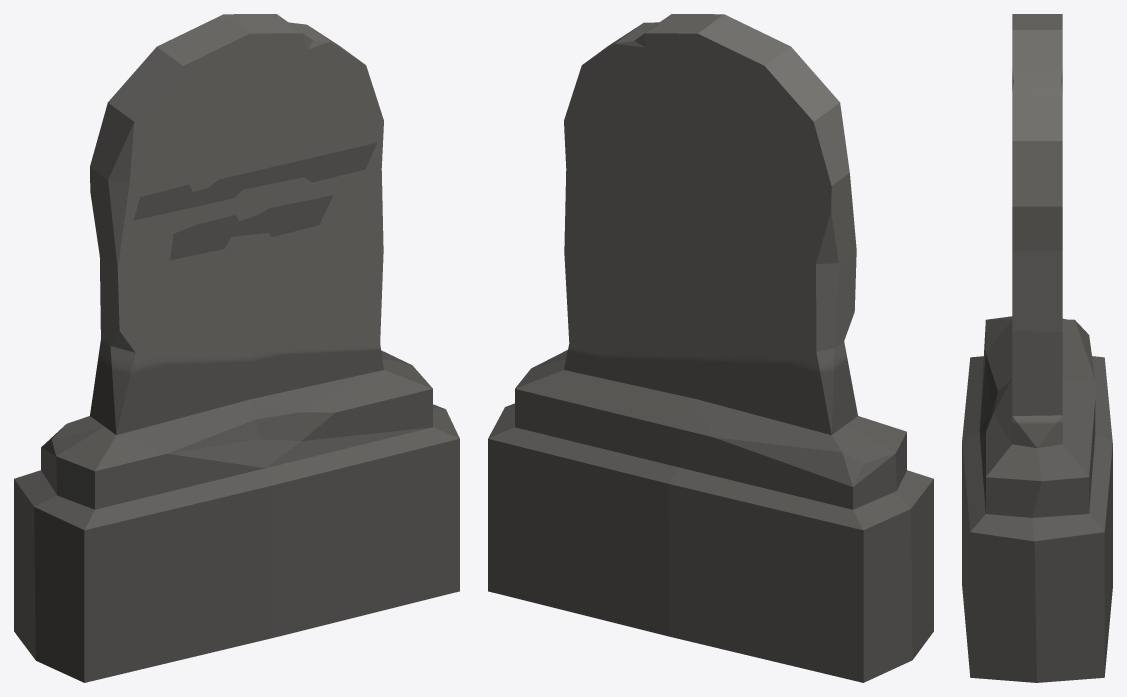
The model's file is crypt_stone_d.gltf.
The picture shows the model from 3 angles, left to right: view 1: azimuth 30°, elevation 25°; view 2: azimuth 150°, elevation 25°; view 3: azimuth 270°, elevation 25°; orthographic projection. The views are drawn at different scales.
Parts seen in each view (by area): view 1: crypt_stone_d; view 2: crypt_stone_d; view 3: crypt_stone_d.
Part boxes in pixels (x1,y1,x2,y2): crypt_stone_d: (14, 14, 459, 682); crypt_stone_d: (488, 14, 933, 682); crypt_stone_d: (962, 14, 1112, 682).
Size of the model in its own units: 1.11 by 1.53 by 0.3719.
Materials: 1 (1 with a texture image).
